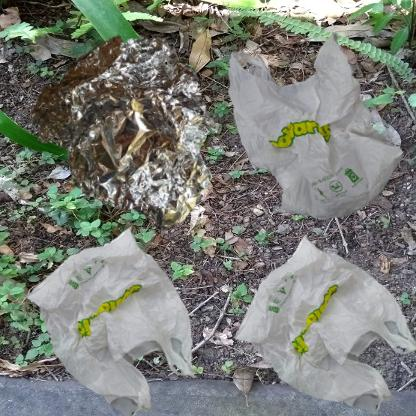aluminio: (10, 10, 249, 245)
bolsa: (213, 10, 416, 262), (10, 213, 218, 416), (213, 213, 416, 416)
